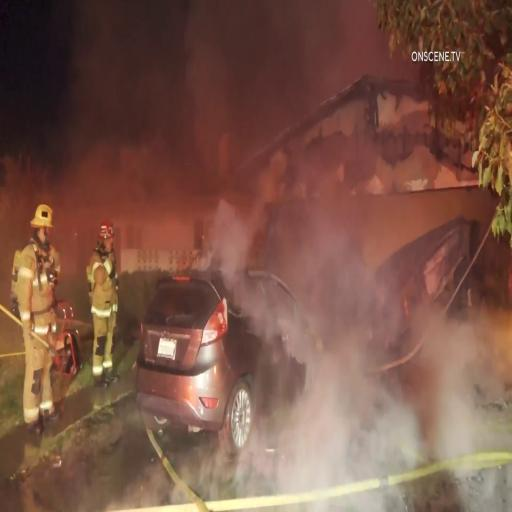smoke: (5, 2, 289, 130), (314, 343, 391, 482)
